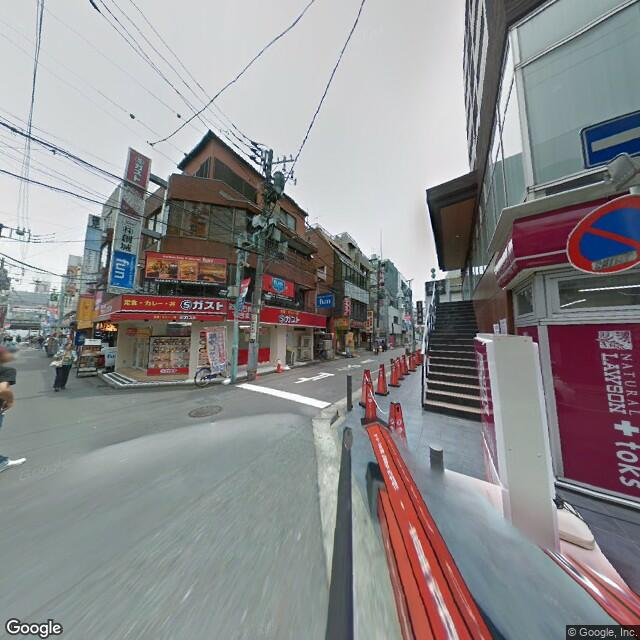lawson: (522, 219, 640, 504)
